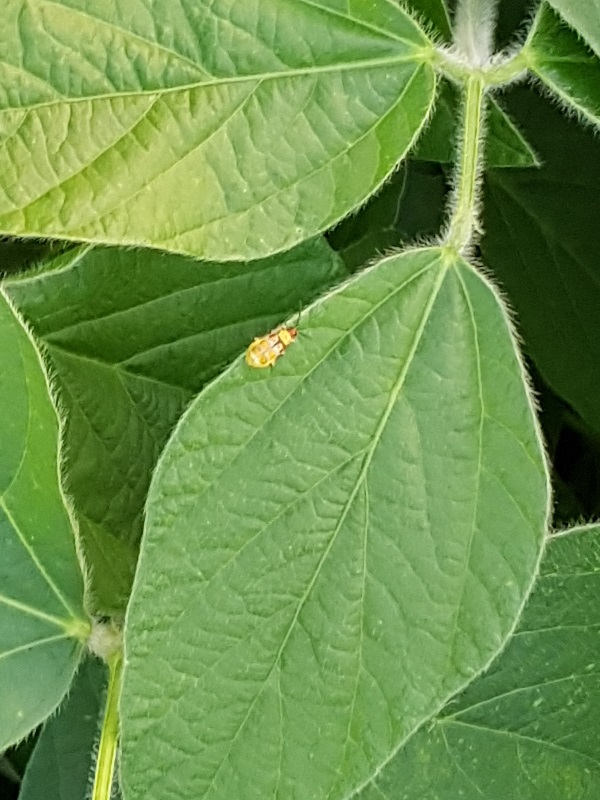Diabrotica_speciosa: (225, 295, 319, 386)
